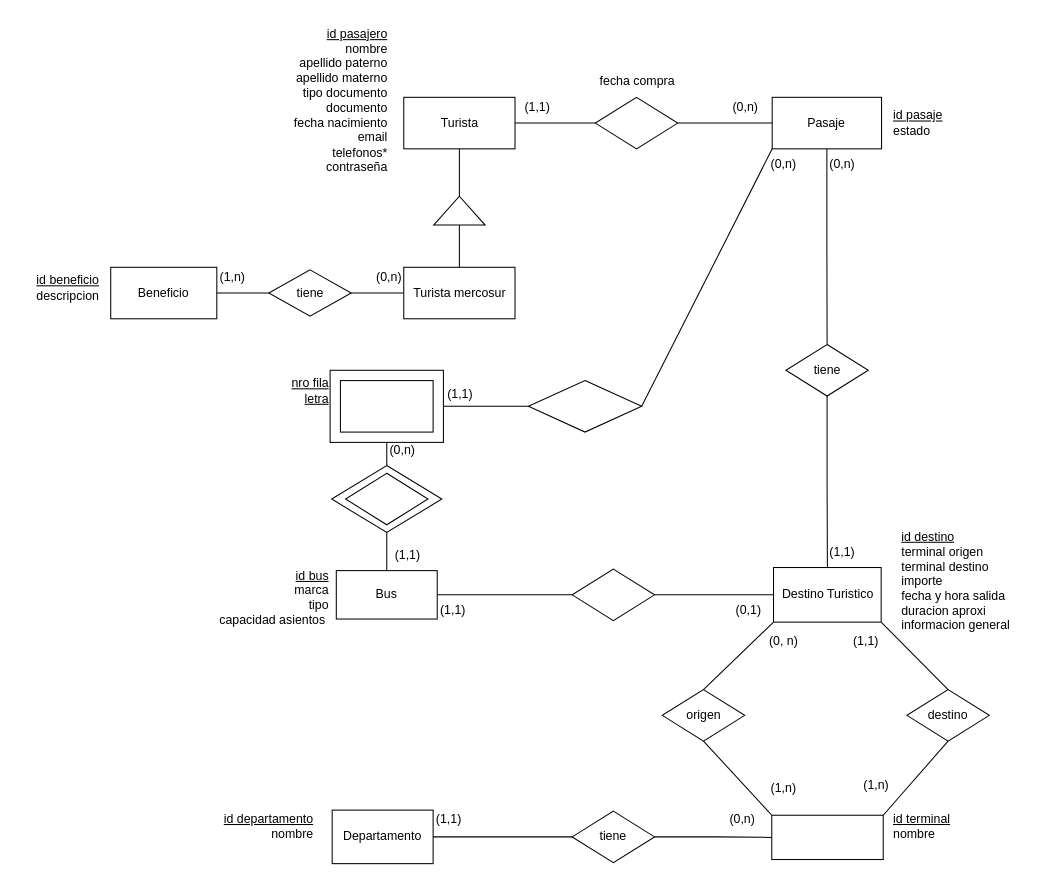
This 1051x882 diagram has some shape labels left out. Each missing label, with the centre of its shape:
Asiento: the point at 386,406
compra: the point at 636,122
pertenece: the point at 386,498
se dirige: the point at 613,594
se le asigna: the point at 584,406
Terminal: the point at 827,837
